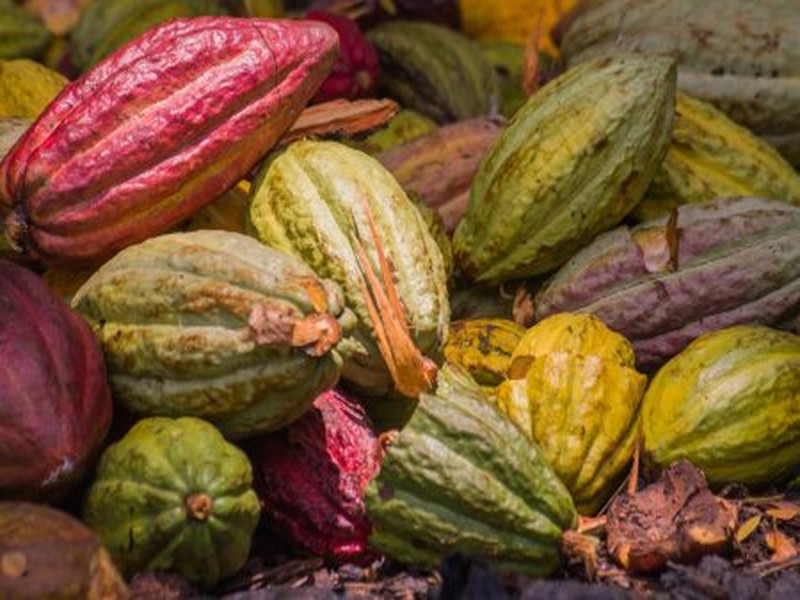Cacaopod: (6, 13, 332, 264), (68, 229, 349, 438), (451, 53, 679, 286), (249, 137, 454, 394)
